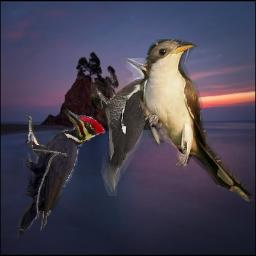Cuckoo: (139, 39, 254, 205)
Woodpecker: (91, 58, 175, 196), (17, 109, 106, 238)
